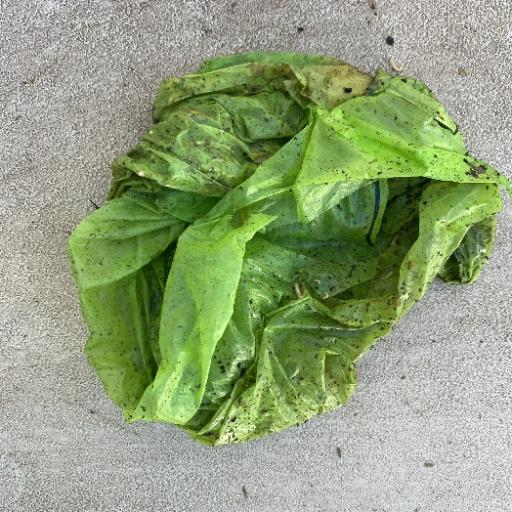Waste: (66, 51, 510, 447)
